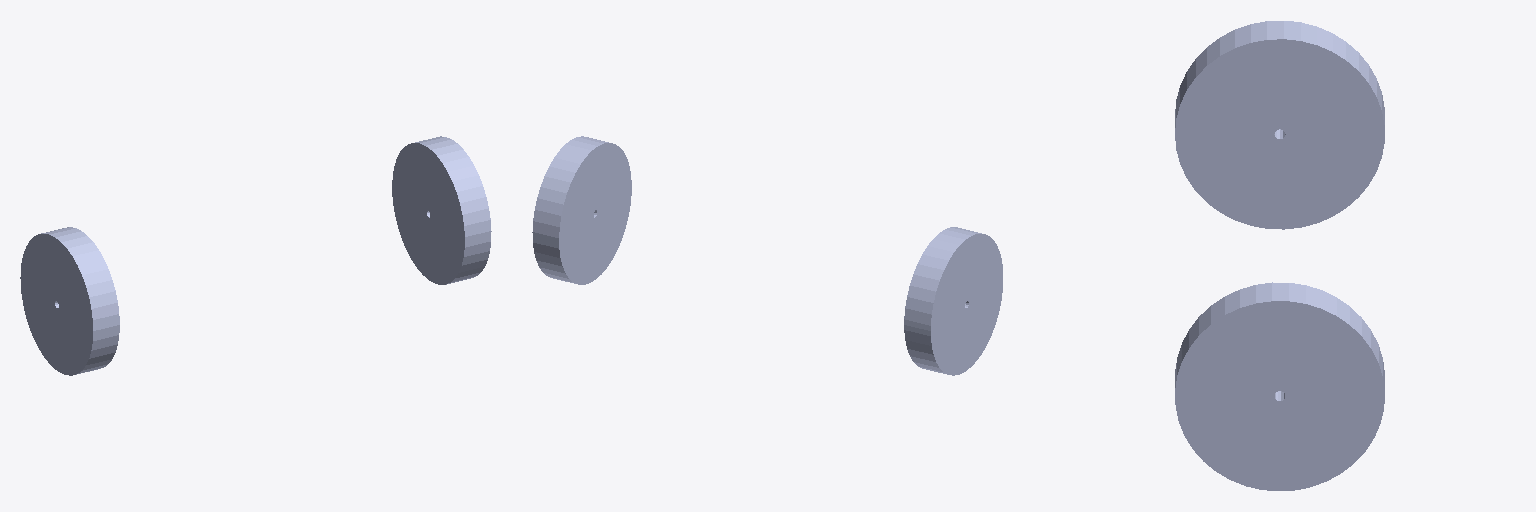
URDF robot description (robot):
<?xml version="1.0" encoding="utf-8"?>

<robot
  name="robot">

  <gazebo>
        <plugin name="gazebo_ros_control" filename="libgazebo_ros_control.so">
            <robotNamespace>/robot</robotNamespace>
        </plugin>
  </gazebo>

  <link name="World"/>

  <joint name="fixeIt" type="fixed">
        <parent link="World" />
        <child link="Chassis"/>
  </joint>

  <link
    name="Chassis">
    <inertial>
      <origin
        xyz="0.00014205 0.10102 0.35349"
        rpy="0 0 0" />
      <mass
        value="0.1" />
      <inertia
        ixx="0.25171"
        ixy="0.00012432"
        ixz="2.1175E-06"
        iyy="0.16354"
        iyz="-0.0051414"
        izz="0.21853" />
    </inertial>
    <visual>
      <origin
        xyz="0 0 0"
        rpy="0 0 0" />
      <geometry>
        <mesh
          filename="package://robot/meshes/Chassis.STL" />
      </geometry>
      <material
        name="red">
        <color
          rgba="0.79216 0.81961 0.93333 1" />
      </material>
    </visual>
    <collision>
      <origin
        xyz="0 0 0"
        rpy="0 0 0" />
      <geometry>
        <mesh
          filename="package://robot/meshes/Chassis.STL" />
      </geometry>
    </collision>
  </link>

   <gazebo reference="Chassis">
        <kp>1000.0</kp>
        <kd>1000.0</kd>
        <mu1>0</mu1>
        <mu2>0</mu2>
  </gazebo>
  
  <link
    name="LeftWheel">
    <inertial>
      <origin
        xyz="1.3878E-17 -7.6328E-17 -0.025"
        rpy="0 0 0" />
      <mass
        value="0.02" />
      <inertia
        ixx="0.0081854"
        ixy="2.1684E-19"
        ixz="2.4283E-18"
        iyy="0.0081854"
        iyz="2.143E-18"
        izz="0.015455" />
    </inertial>
    <visual>
      <origin
        xyz="0 0 0"
        rpy="0 0 0" />
      <geometry>
        <mesh
          filename="package://robot/meshes/LeftWheel.STL" />
      </geometry>
      <material
        name="blue">
        <color
          rgba="0.79216 0.81961 0.93333 1" />
      </material>
    </visual>
    <collision>
      <origin
        xyz="0 0 0"
        rpy="0 0 0" />
      <geometry>
        <mesh
          filename="package://robot/meshes/LeftWheel.STL" />
      </geometry>
    </collision>
  </link>

  <gazebo reference="LeftWheel">
        <kp>1000.0</kp>
        <kd>1000.0</kd>
        <mu1>0</mu1>
        <mu2>0</mu2>
  </gazebo>

  <joint
    name="LeftDrive"
    type="continuous">
    <parent
      link="Chassis" />
    <child
      link="LeftWheel" />
    <origin
      xyz="0.32409 0 0.11844"
      rpy="-1.5708 1.3382 1.5708" />
    <axis
      xyz="0 0 1" />
    <limit
      lower="1"
      upper="-1"
      effort="1"
      velocity="5" />
  </joint>

  <link
    name="RightWheel">
    <inertial>
      <origin
        xyz="7.8856E-17 1.3878E-17 -0.025"
        rpy="0 0 0" />
      <mass
        value="0.02" />
      <inertia
        ixx="0.0081854"
        ixy="3.3697E-34"
        ixz="-1.3457E-18"
        iyy="0.0081854"
        iyz="-1.7717E-18"
        izz="0.015455" />
    </inertial>
    <visual>
      <origin
        xyz="0 0 0"
        rpy="0 0 0" />
      <geometry>
        <mesh
          filename="package://robot/meshes/RightWheel.STL" />
      </geometry>
      <material
        name="blue">
        <color
          rgba="0.79216 0.81961 0.93333 1" />
      </material>
    </visual>
    <collision>
      <origin
        xyz="0 0 0"
        rpy="0 0 0" />
      <geometry>
        <mesh
          filename="package://robot/meshes/RightWheel.STL" />
      </geometry>
    </collision>
  </link>

  <gazebo reference="RightWheel">
        <kp>1000.0</kp>
        <kd>1000.0</kd>
        <mu1>0</mu1>
        <mu2>0</mu2>
  </gazebo>


  <joint
    name="RightDrive"
    type="continuous">
    <origin
      xyz="-0.32409 0 0.11844"
      rpy="1.5708 0 1.5708" />
    <parent
      link="Chassis" />
    <child
      link="RightWheel" />
    <axis
      xyz="0 0 -1" />
    <limit
      lower="1"
      upper="-1"
      effort="1"
      velocity="5" />
  </joint>

    <transmission name="left_wheel_trans">
      <type>transmission_interface/SimpleTransmission</type>
      <joint name="LeftDrive">
        <hardwareInterface>hardware_interface/EffortJointInterface</hardwareInterface>
      </joint>
      <actuator name="leftMotor">
        <hardwareInterface>hardware_interface/EffortJointInterface</hardwareInterface>
        <mechanicalReduction>1</mechanicalReduction>
      </actuator>
    </transmission>

     <transmission name="right_wheel_trans">
      <type>transmission_interface/SimpleTransmission</type>
      <joint name="RightDrive">
        <hardwareInterface>hardware_interface/EffortJointInterface</hardwareInterface>
      </joint>
      <actuator name="rightMotor">
        <hardwareInterface>hardware_interface/EffortJointInterface</hardwareInterface>
        <mechanicalReduction>1</mechanicalReduction>
      </actuator>
    </transmission>

</robot>

--- Facts derived from the render (not from the file) ---
3 views of the same robot in one strip: view 1: azimuth 30°, elevation 25°; view 2: azimuth 150°, elevation 25°; view 3: azimuth 270°, elevation 25° (orthographic).
Model robot with 4 links and 3 joints (2 continuous, 1 fixed), rooted at World, posed every joint at zero.
Links seen in each view (by area): view 1: RightWheel, LeftWheel; view 2: LeftWheel, RightWheel; view 3: LeftWheel, RightWheel.
Link boxes in pixels (box(x1,y1,x2,y2)): RightWheel: box(20, 227, 119, 375); LeftWheel: box(392, 136, 491, 284); LeftWheel: box(532, 136, 631, 284); RightWheel: box(904, 227, 1002, 375); LeftWheel: box(1175, 282, 1384, 490); RightWheel: box(1175, 21, 1384, 229).
Bounding box of the posed robot: 0.7482 × 0.2369 × 0.2368 m (x, y, z).
Meshes: 3 distinct files referenced, 2 mesh visuals loaded (2 binary STL); not drawn: 1 (reference not matched to a file when rendering).